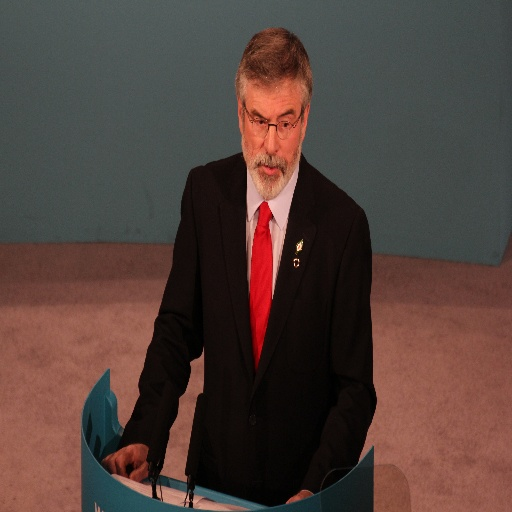hand: (109, 442, 157, 492), (285, 490, 315, 504)
